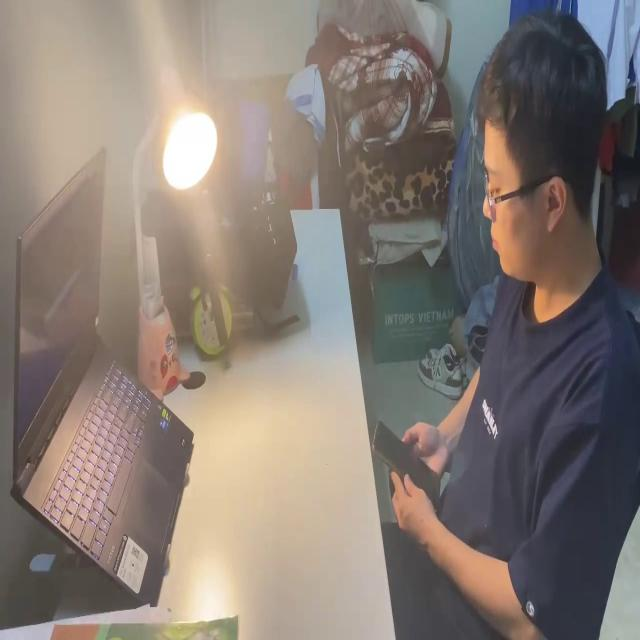book: (0, 602, 238, 640)
laptop: (6, 134, 196, 602)
phone: (369, 415, 444, 514)
student: (373, 10, 640, 640)
